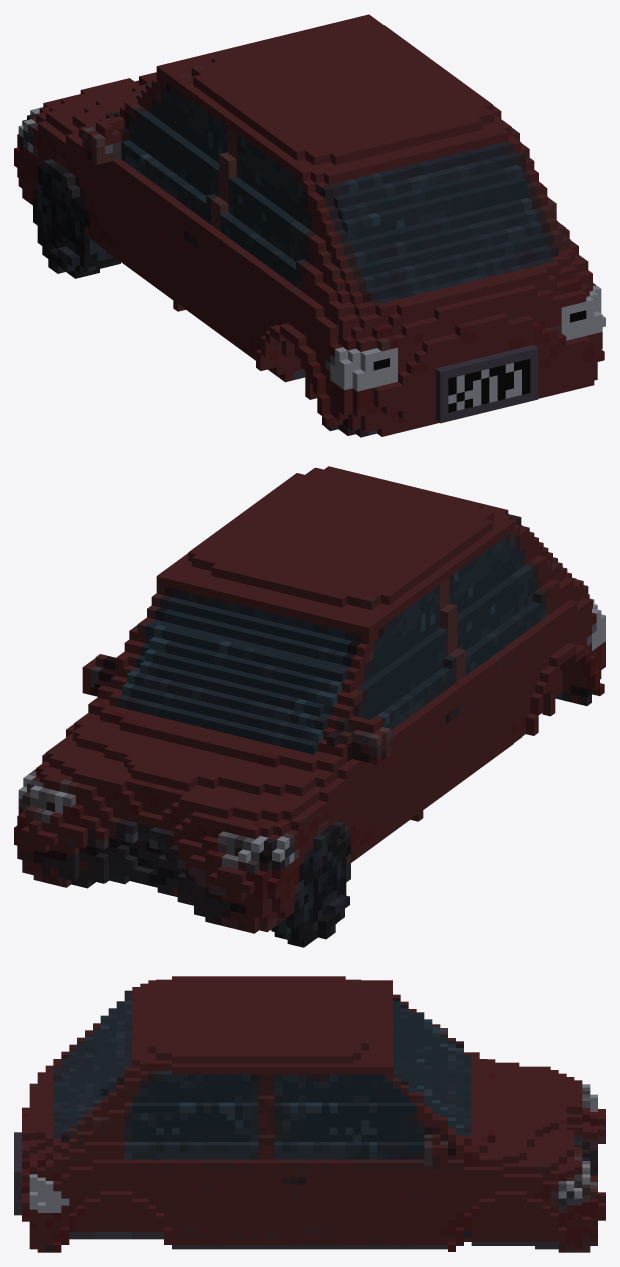
The model's file is CarDamaged-3-high_poly.obj.
3 views of the same model, one above another, from view 1: azimuth 30°, elevation 25°; view 2: azimuth 150°, elevation 25°; view 3: azimuth 270°, elevation 25° (orthographic). The views are drawn at different scales.
Visible parts, largest first — view 1: high_poly; view 2: high_poly; view 3: high_poly.
Boxes of the visible parts, x1=… form: high_poly: x1=14, y1=14, x2=605, y2=437; high_poly: x1=14, y1=466, x2=605, y2=947; high_poly: x1=14, y1=976, x2=605, y2=1252.
Size of the model in its own units: 3.6 by 3 by 7.5.
1 material, 1 textured.
